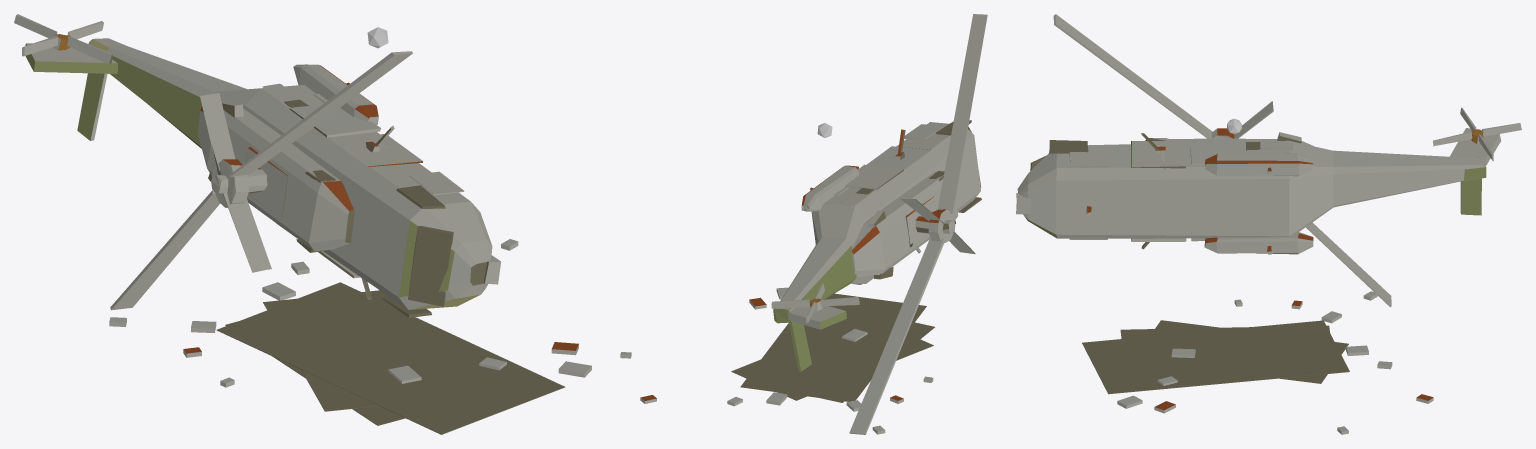
Rendered from SM_RestosNH90_v1_LOD0.fbx.
3 renders of one model, left to right at view 1: azimuth 30°, elevation 25°; view 2: azimuth 150°, elevation 25°; view 3: azimuth 270°, elevation 25°, orthographic. The views are drawn at different scales.
Visible parts, largest first — view 1: SM_bloques.restos_nh90_v1_LOD0; view 2: SM_bloques.restos_nh90_v1_LOD0; view 3: SM_bloques.restos_nh90_v1_LOD0.
Boxes of the visible parts, x1,y1,x2,y2 form: SM_bloques.restos_nh90_v1_LOD0: (14, 14, 591, 434); SM_bloques.restos_nh90_v1_LOD0: (620, 14, 987, 434); SM_bloques.restos_nh90_v1_LOD0: (1016, 14, 1521, 434).
Bounding box in the file's own units: 12.19 × 11.59 × 17.4.
